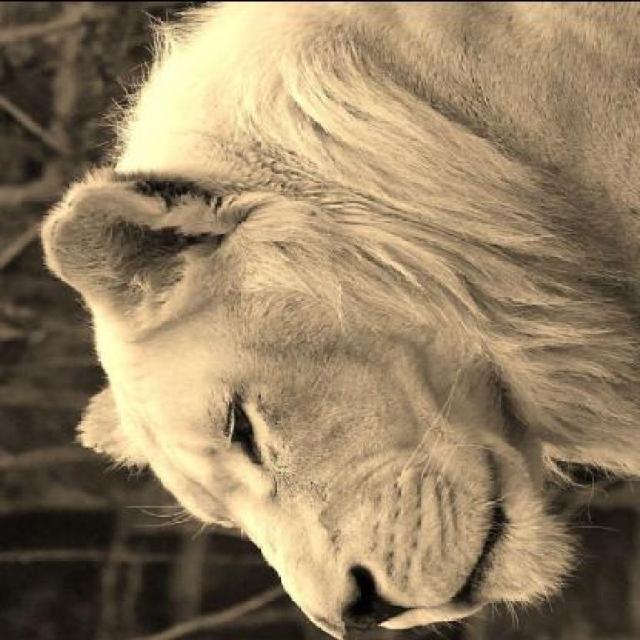Lion: (27, 4, 638, 638)
